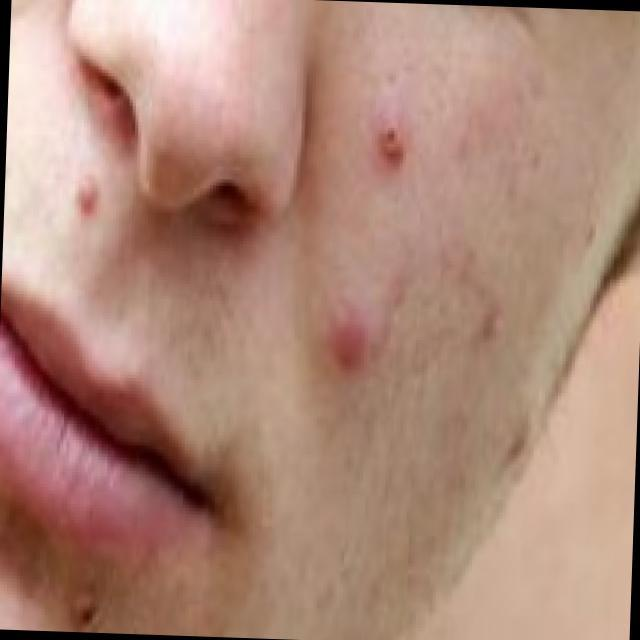Eczema: (367, 114, 422, 166)
